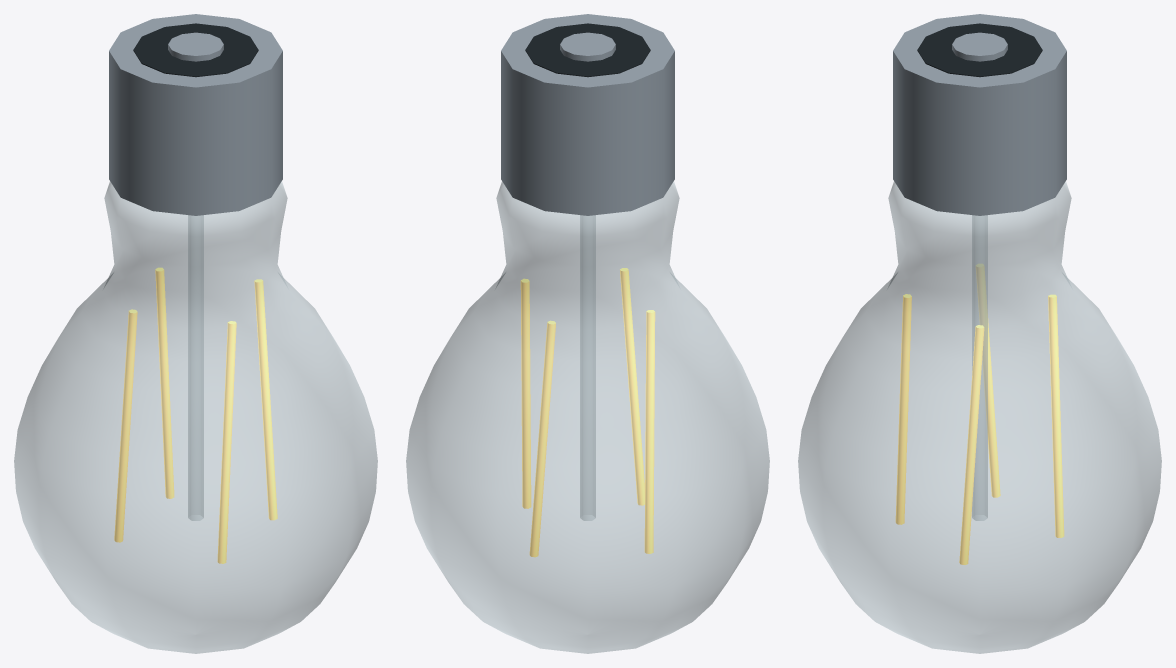
The model's file is source.glb.
3 renders of one model, left to right at view 1: azimuth 30°, elevation 25°; view 2: azimuth 150°, elevation 25°; view 3: azimuth 270°, elevation 25°, orthographic.
Visible parts, largest first — view 1: 光学透明件, 机加工金属, Emitters, 密封及绝缘件; view 2: 光学透明件, 机加工金属, Emitters, 密封及绝缘件; view 3: 光学透明件, 机加工金属, Emitters, 密封及绝缘件.
Boxes of the visible parts, x1,y1,x2,y2 form: 光学透明件: [14, 181, 377, 653]; 机加工金属: [109, 14, 282, 215]; Emitters: [114, 267, 277, 563]; 密封及绝缘件: [133, 23, 258, 77]; 光学透明件: [406, 181, 769, 653]; 机加工金属: [501, 14, 674, 215]; Emitters: [520, 268, 655, 557]; 密封及绝缘件: [525, 23, 650, 77]; 光学透明件: [798, 181, 1161, 653]; 机加工金属: [893, 14, 1066, 215]; Emitters: [895, 264, 1064, 564]; 密封及绝缘件: [917, 23, 1042, 77].
Size of the model in its own units: 0.0452 by 0.0809 by 0.0452.
